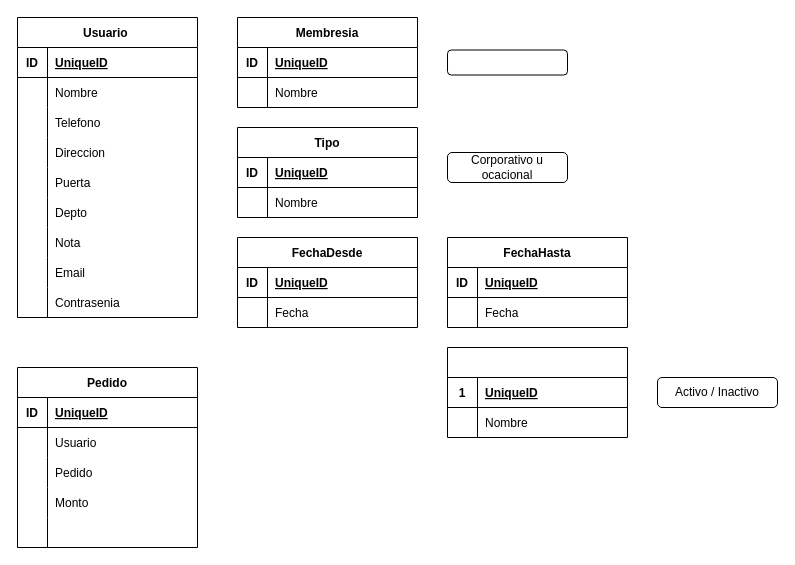
Some shapes in this 795 by 565 pixel diagram are drawn without their labels. Each missing label, with the box of its shape:
Estado: (446, 346, 628, 438)
Si paga membresia: (446, 49, 568, 75)
